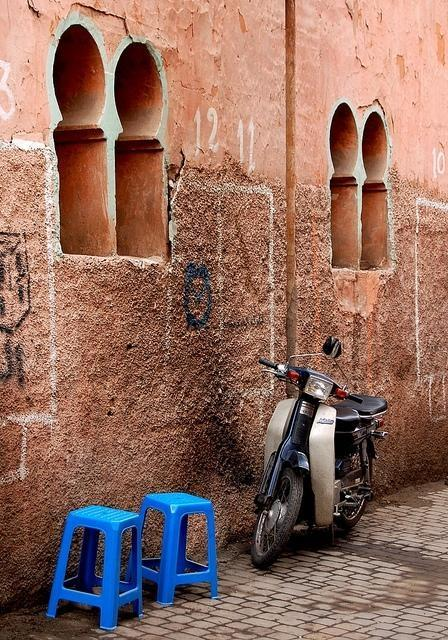motorcycle: (248, 338, 391, 572)
